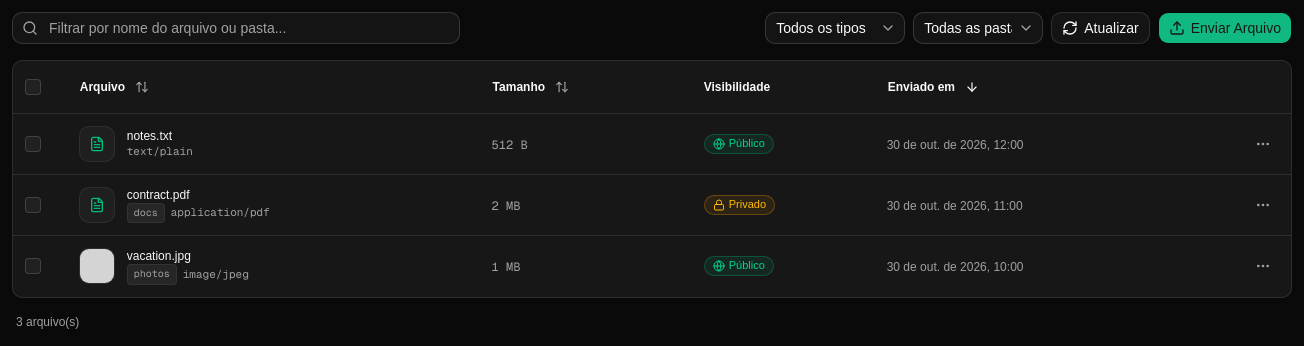
Scenario: Frontend FilesDataTable Component Suite › filters rows dynamically using the search input
Type "vacation" into the field with placeholder "Filtrar por nome do arquivo ou pasta..." at (236, 28), box x1=12 y1=12 x2=460 y2=44
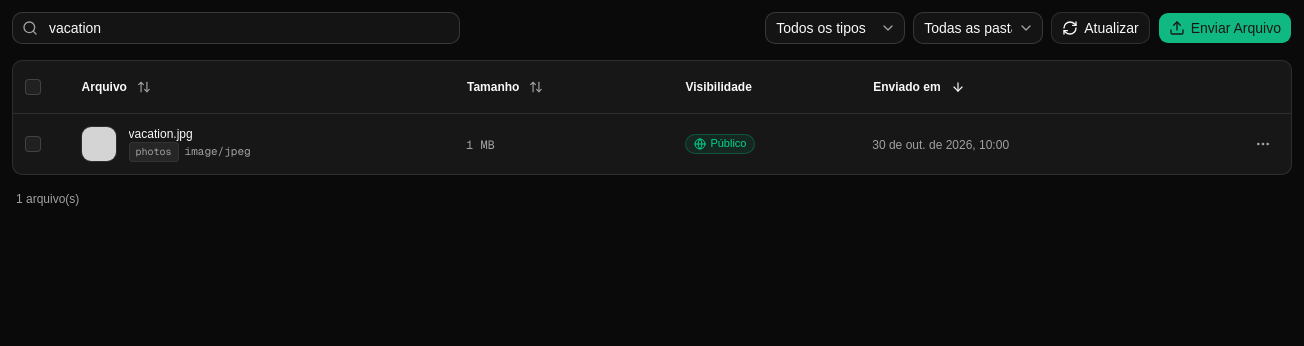
Expected: the button "vacation.jpg" is shown, x1=129 y1=126 x2=251 y2=142
Expected: the button "contract.pdf" is gone
Expected: the button "notes.txt" is gone
